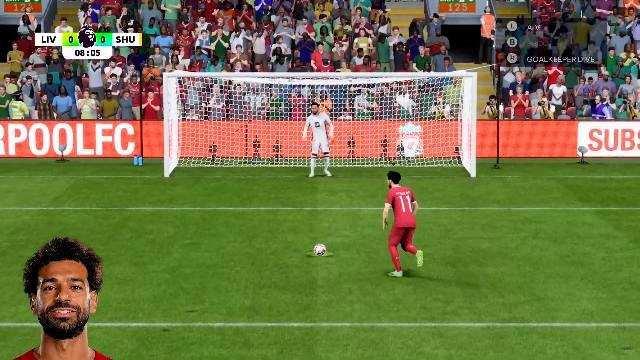bottom-left: (170, 134, 272, 178)
bottom-right: (370, 134, 470, 178)
center-down: (273, 134, 369, 178)
center-up: (274, 78, 368, 132)
circle: (309, 252, 331, 256)
football: (314, 244, 326, 254)
goalkeeper: (300, 102, 336, 182)
player: (368, 171, 437, 279)
top-left: (170, 78, 272, 132)
top-right: (370, 78, 472, 132)
